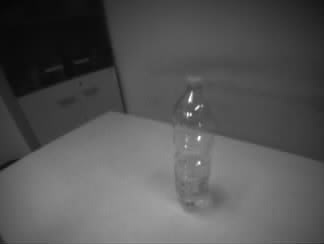Bottle: (170, 74, 214, 213)
